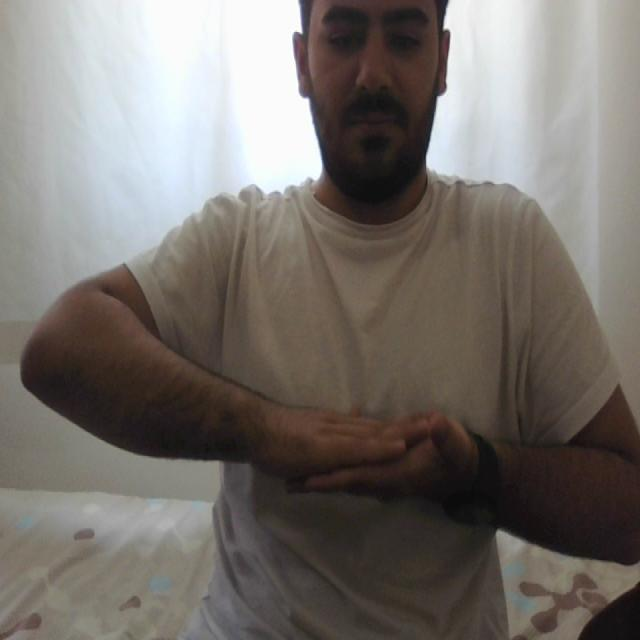Arkadas: (135, 382, 616, 530)
